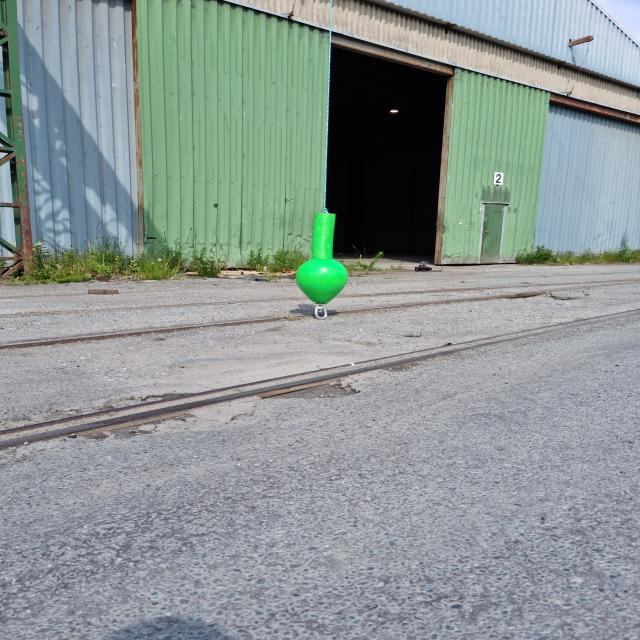green: (296, 214, 348, 306)
